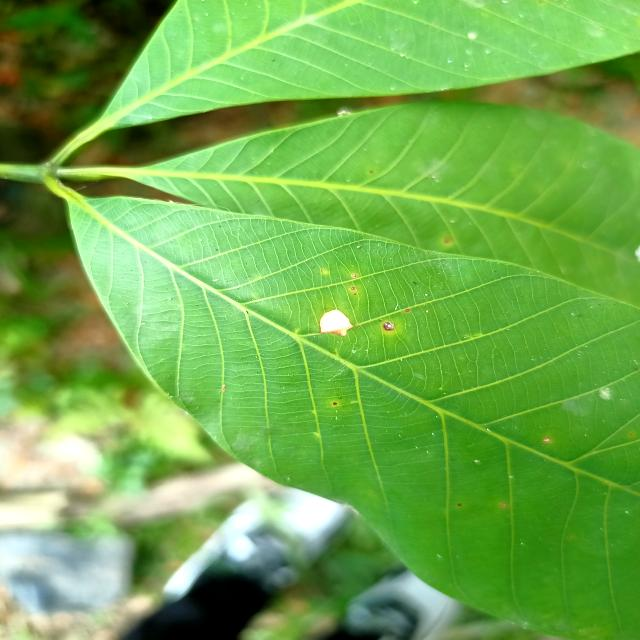Colletotrichum: (383, 322, 394, 331), (542, 437, 550, 442), (350, 273, 356, 278), (457, 502, 462, 507), (350, 286, 356, 290), (332, 402, 338, 405), (406, 309, 410, 312)
Leaf-Blight: (319, 309, 354, 336)
